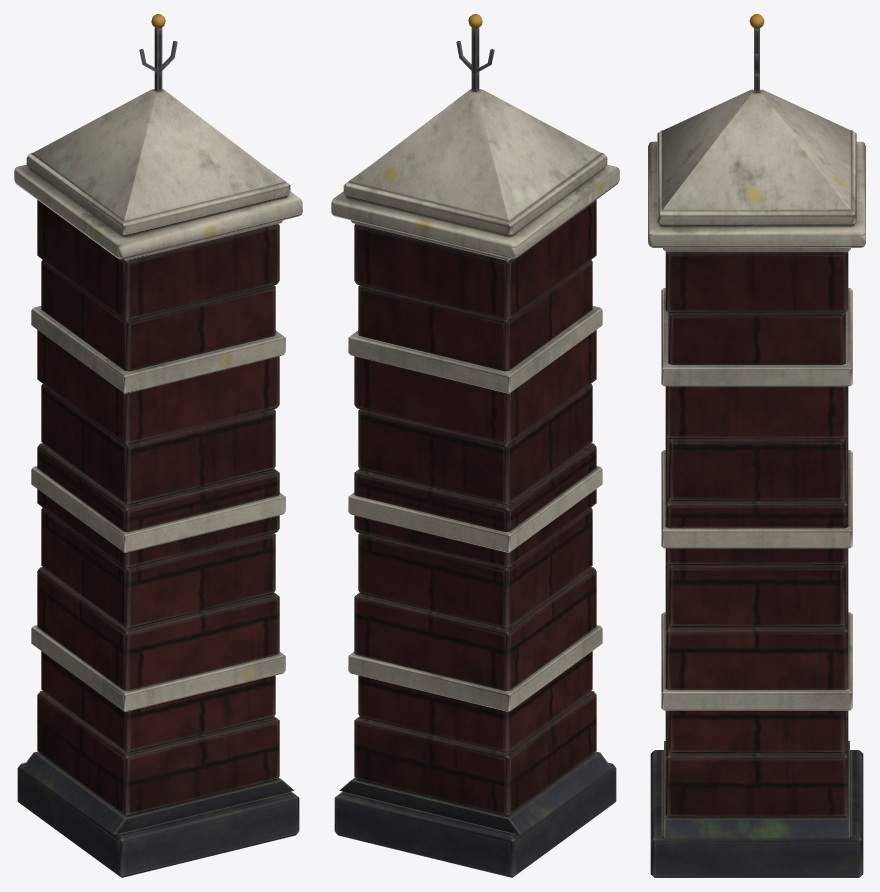
File: BrickWallPier.fbx
3 views of the same model, side by side, from view 1: azimuth 30°, elevation 25°; view 2: azimuth 150°, elevation 25°; view 3: azimuth 270°, elevation 25° (orthographic).
Parts seen in each view (by area): view 1: BrickWallPier; view 2: BrickWallPier; view 3: BrickWallPier.
Boxes of the visible parts, box(x1,y1,x2,y2) form: BrickWallPier: box(14, 14, 302, 877); BrickWallPier: box(331, 14, 619, 877); BrickWallPier: box(648, 14, 865, 877).
Bounding box in the file's own units: 262 × 1088 × 262.
